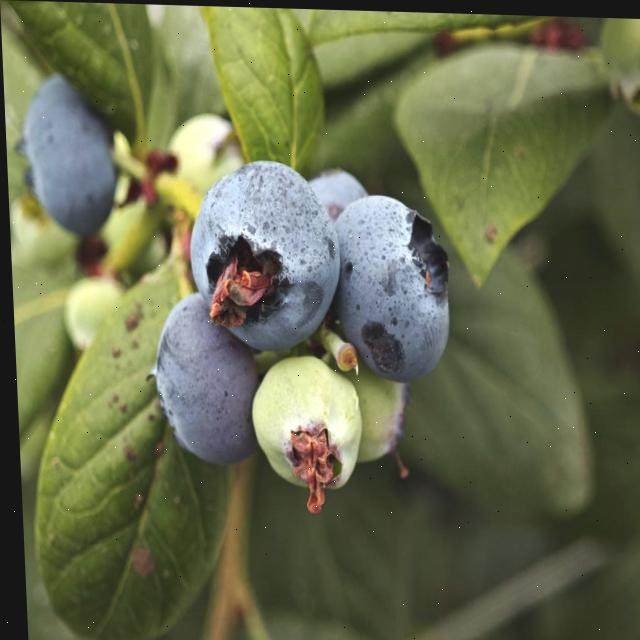RipeBlueBerry: (183, 157, 342, 354), (334, 187, 453, 383), (149, 293, 257, 467), (24, 74, 119, 235)
UnripeBlueBerry: (245, 352, 365, 499)
